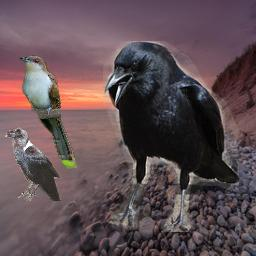Crow: (103, 41, 239, 232), (5, 127, 61, 201)
Cuckoo: (19, 55, 77, 169)
